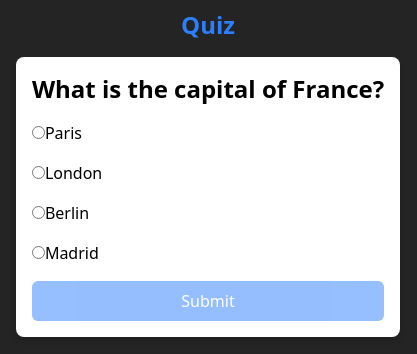
QuizPage › should show Next button after submitting answer
Click the radio button next to "Paris".
click(38, 132)  # box [32,126,45,139]
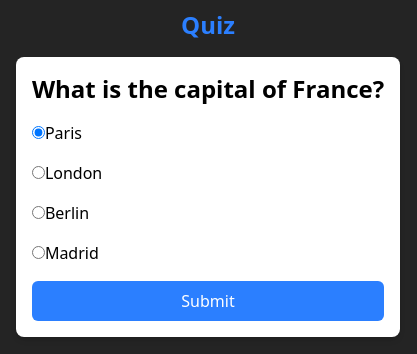
Click the button "Submit".
click(208, 301)  # box [32,281,384,321]
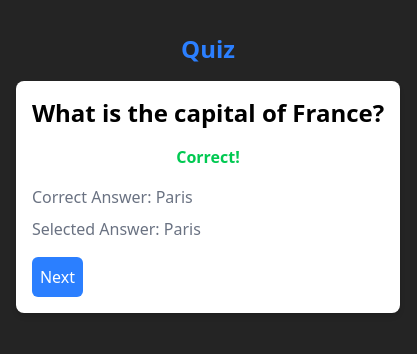
Now the button "Next" is shown, box [32,257,83,297]
Now the text "Correct!" is shown, box [176,146,240,168]
